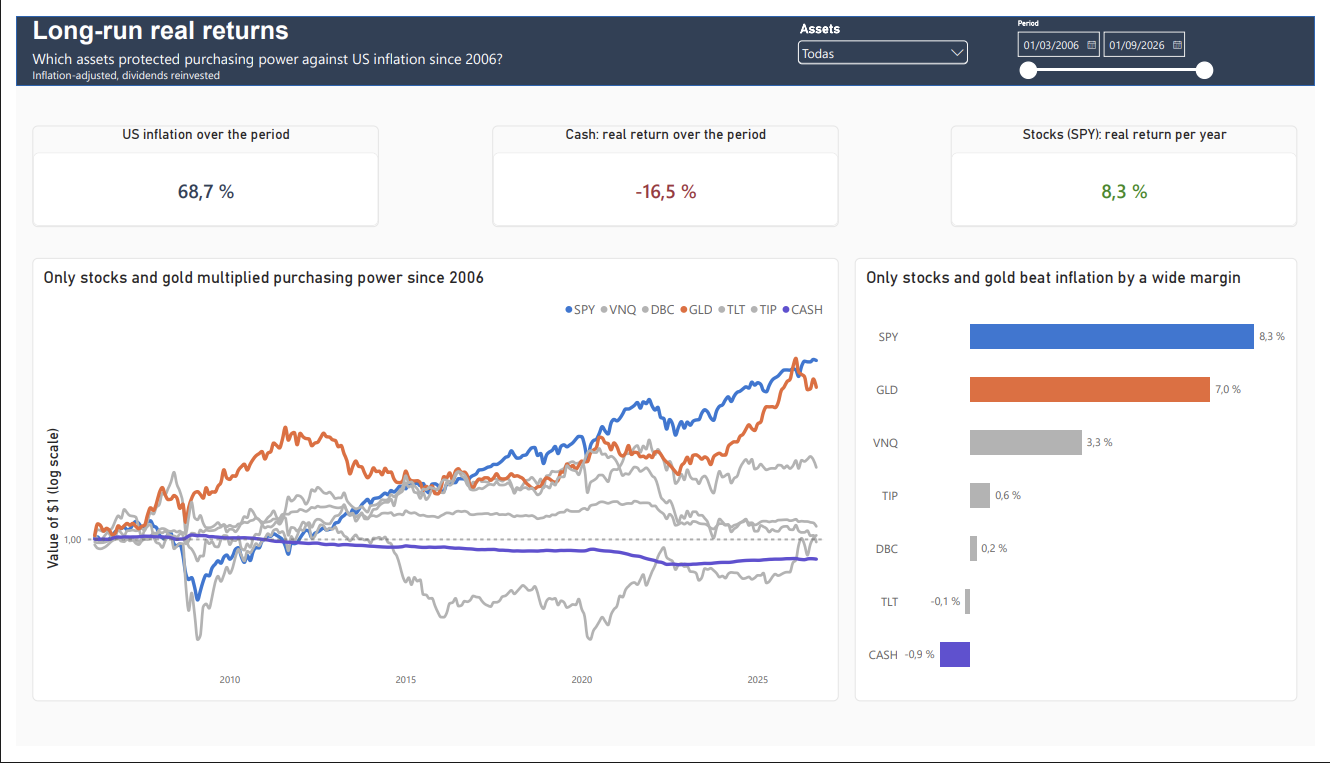

The dashboard page shown, as its layout file describes it:
{"tool":"powerbi","page":{"name":"Real returns","canvas":[1920,1080],"ordinal":0},"visuals":[{"type":"shape","box":[0,0,1920.1,103.2],"z":0},{"type":"textbox","box":[24,0,544,58],"z":1000},{"type":"slicer","fields":{"Values":["d_Asset.ticker"]},"box":[1183.5,9,260.6,95.9],"z":2000},{"type":"slicer","fields":{"Values":["d_Date.month"]},"box":[1536.4,0,300,96.7],"z":3000},{"type":"cardVisual","title":"US inflation over the period","fields":{"Data":["_Measures.Cumulative Inflation"]},"box":[24,162,512,150],"z":4000},{"type":"cardVisual","title":"Cash: real return over the period","fields":{"Data":["_Measures.Cash real return"]},"box":[704,162,512,150],"z":5000},{"type":"cardVisual","title":"Stocks (SPY): real return per year","fields":{"Data":["_Measures.SPY real return"]},"box":[1382,162,512,150],"z":6000},{"type":"lineChart","title":"Only stocks and gold multiplied purchasing power since 2006","fields":{"Category":["d_Date.month"],"Series":["d_Asset.ticker"],"Y":["Sum(f_MonthlyReturns.real_wealth)"]},"box":[24,358,1192,656],"z":7000},{"type":"clusteredBarChart","title":"Only stocks and gold beat inflation by a wide margin","fields":{"Category":["d_Asset.ticker"],"Y":["_Measures.Annualized Real Return"]},"box":[1240,358,654,656],"z":8000},{"type":"textbox","box":[24,48,1114,58],"z":9000}]}

Visuals, with their boxes in screenshot pixels (x1, y1, x2, y2), scaled from the page's 1920x1080 canvas onto the 1330x763 screenshot:
shape: bbox(0, 0, 1329, 73)
textbox: bbox(17, 0, 393, 41)
slicer - d_Asset.ticker: bbox(820, 6, 1000, 74)
slicer - d_Date.month: bbox(1064, 0, 1272, 68)
"US inflation over the period" cardVisual: bbox(17, 114, 371, 220)
"Cash: real return over the period" cardVisual: bbox(488, 114, 842, 220)
"Stocks (SPY): real return per year" cardVisual: bbox(957, 114, 1312, 220)
"Only stocks and gold multiplied purchasing power since 2006" lineChart: bbox(17, 253, 842, 716)
"Only stocks and gold beat inflation by a wide margin" clusteredBarChart: bbox(859, 253, 1312, 716)
textbox: bbox(17, 34, 788, 75)
